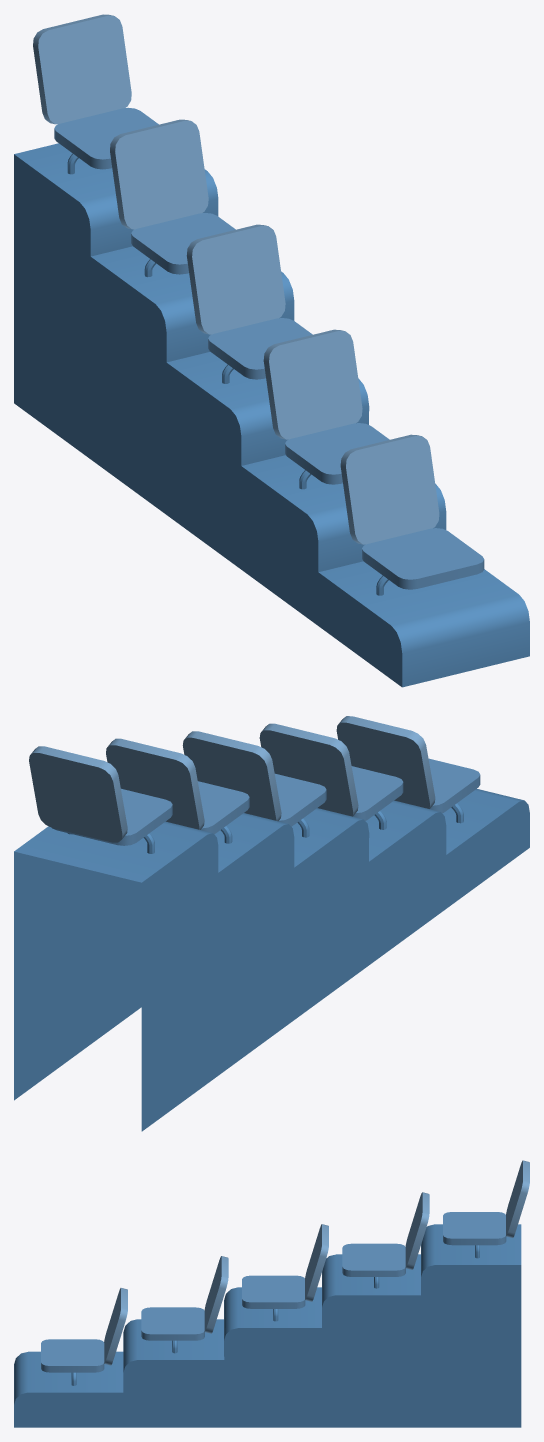
File: Tribune.fbx
3 renders of one model, top to bottom at view 1: azimuth 30°, elevation 25°; view 2: azimuth 150°, elevation 25°; view 3: azimuth 270°, elevation 25°, orthographic. The views are drawn at different scales.
Visible parts, largest first — view 1: Tribune; view 2: Tribune; view 3: Tribune.
Part boxes in pixels (box(x1,y1,x2,y2)): Tribune: box(14, 14, 529, 687); Tribune: box(14, 716, 529, 1131); Tribune: box(14, 1160, 529, 1427).
Bounding box in the file's own units: 139 × 377 × 744.
